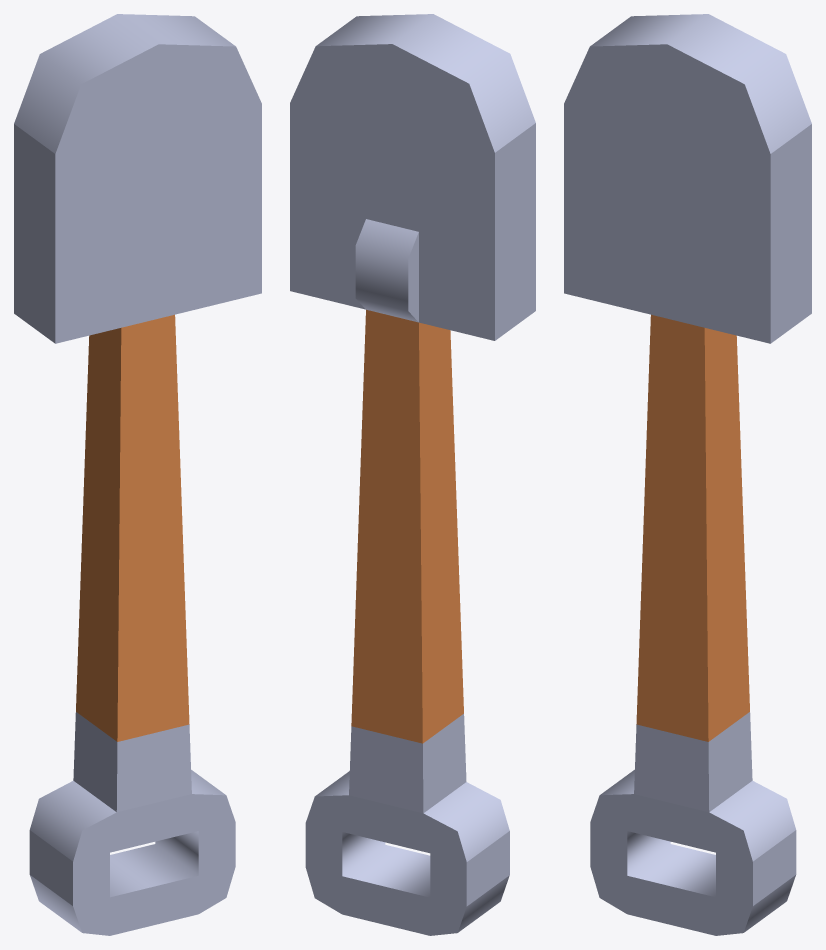
Rendered from toolShovel.fbx.
3 renders of one model, left to right at view 1: azimuth 30°, elevation 25°; view 2: azimuth 150°, elevation 25°; view 3: azimuth 330°, elevation 25°, orthographic.
Visible parts, largest first — view 1: toolShovel; view 2: toolShovel; view 3: toolShovel.
Boxes of the visible parts, bbox=[...] form: toolShovel: bbox=[14, 14, 261, 935]; toolShovel: bbox=[290, 14, 535, 935]; toolShovel: bbox=[564, 14, 811, 935].
Size of the model in its own units: 0.7093 by 2.9 by 0.3093.
